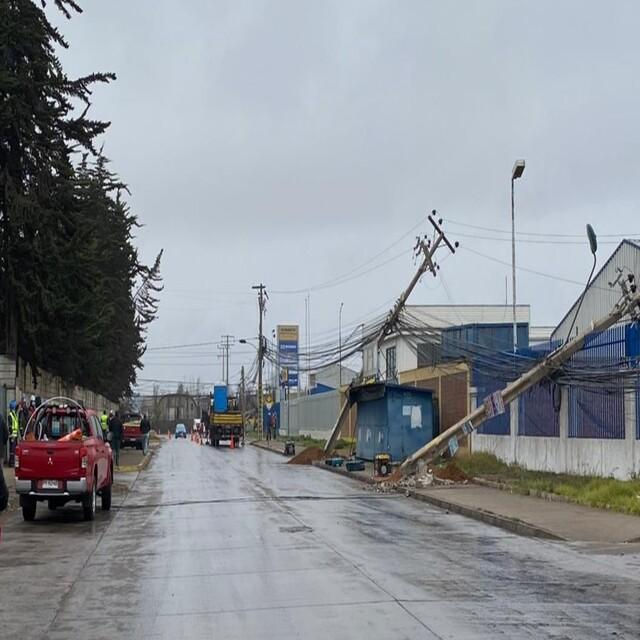Inclined Pole: (393, 267, 640, 478)
